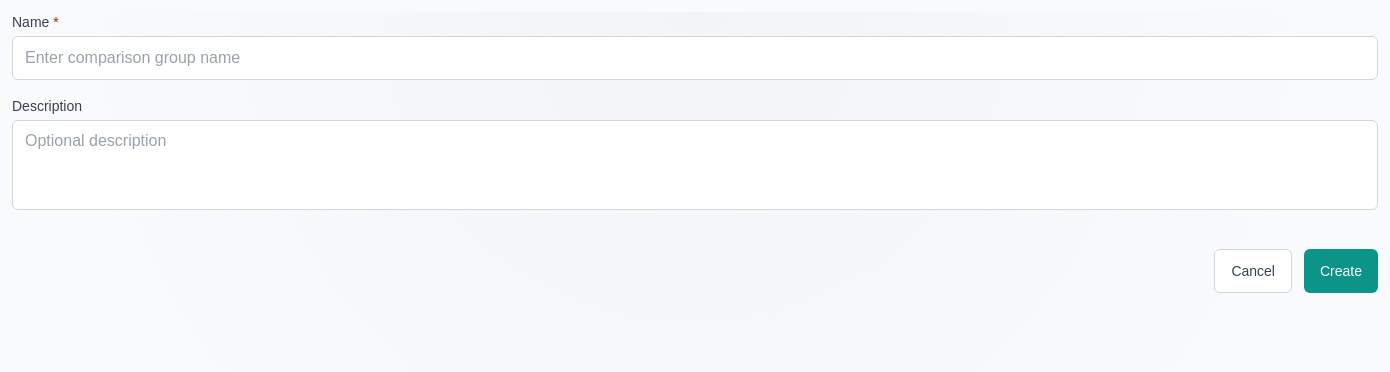
Scenario: ComparisonForm › error handling › should display API error message
Step 1. Type "Test" into the field labelled "Name *" → x=695, y=58, box [12,36,1378,80]
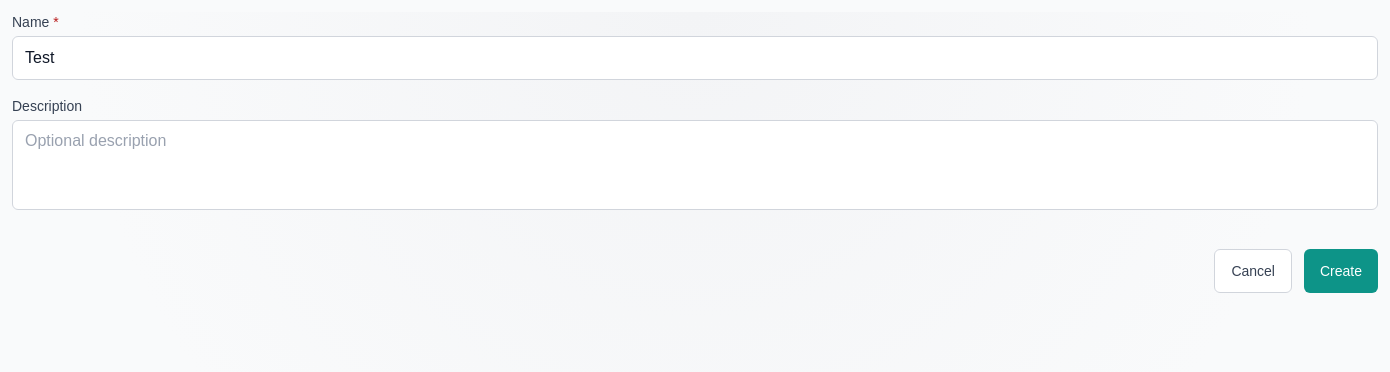
Step 2. Submit the form "Create"
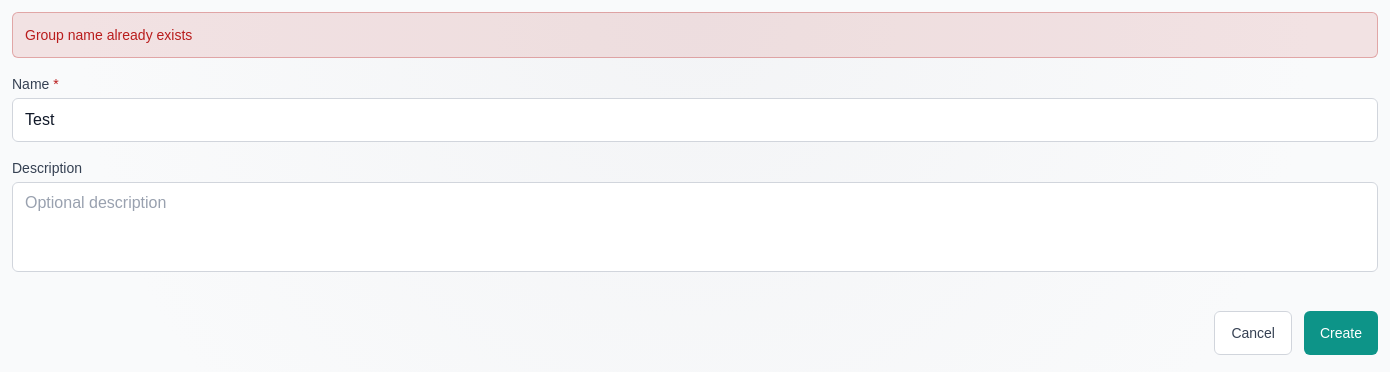
Expected: the text "Group name already exists" is shown, [25,27,192,43]
